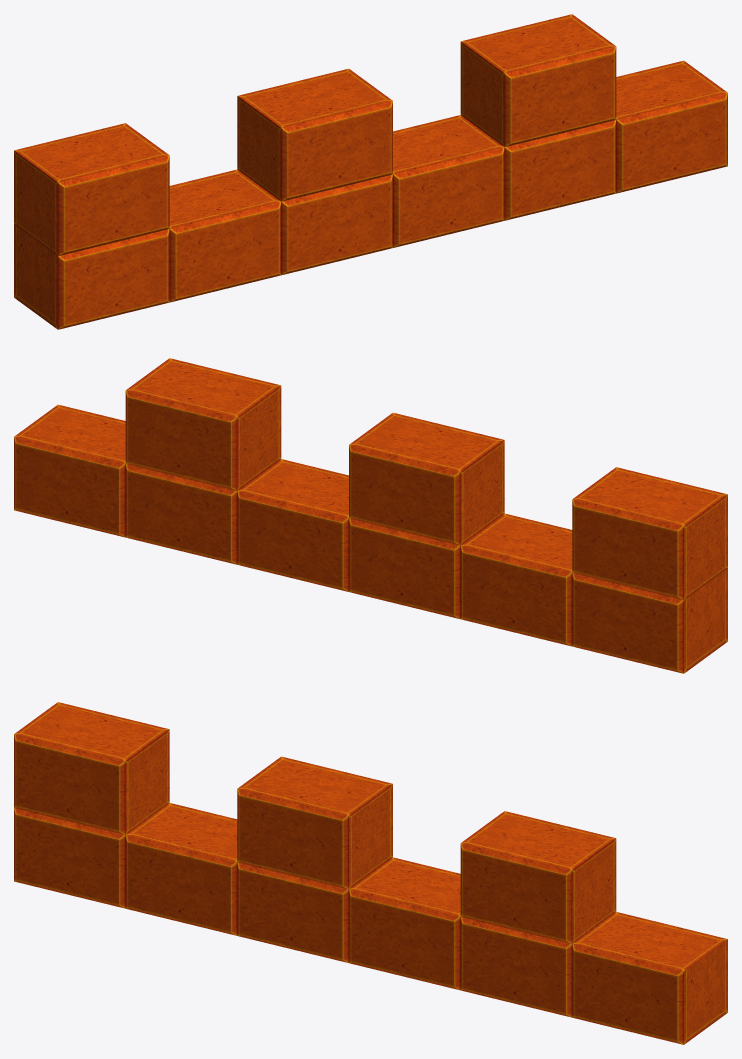
Rendered from Castle_Border_Top.fbx.
The picture shows the model from 3 angles, top to bottom: view 1: azimuth 30°, elevation 25°; view 2: azimuth 150°, elevation 25°; view 3: azimuth 330°, elevation 25°; orthographic projection.
Parts seen in each view (by area): view 1: Border_TopRect_LOD0; view 2: Border_TopRect_LOD0; view 3: Border_TopRect_LOD0.
Boxes of the visible parts, x1,y1,x2,y2 form: Border_TopRect_LOD0: [14, 14, 727, 329]; Border_TopRect_LOD0: [14, 358, 727, 673]; Border_TopRect_LOD0: [14, 702, 727, 1044].
Size of what is drawn, in the model's own units: 1000 by 210 by 126.
